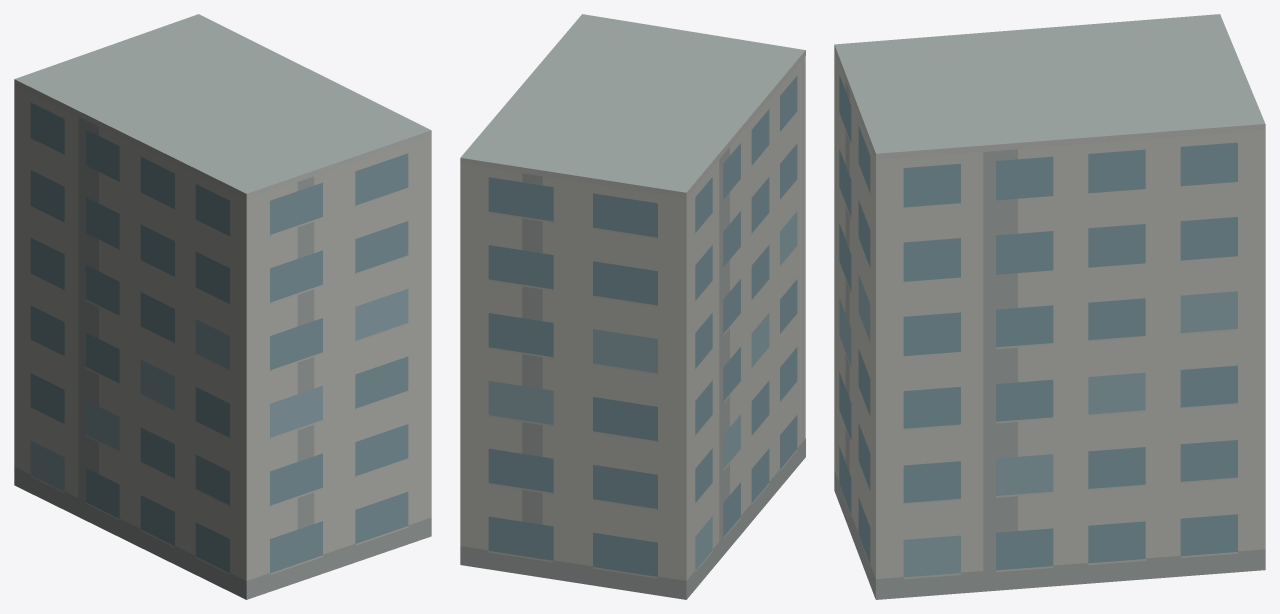
File: survey-upis-32843664.glb
3 views of the same model, side by side, from view 1: azimuth 30°, elevation 25°; view 2: azimuth 150°, elevation 25°; view 3: azimuth 270°, elevation 25° (orthographic). The views are drawn at different scales.
Visible parts, largest first — view 1: survey-upis-32843664.tmp; view 2: survey-upis-32843664.tmp; view 3: survey-upis-32843664.tmp.
Boxes of the visible parts, bbox=[...] form: survey-upis-32843664.tmp: bbox=[14, 14, 431, 599]; survey-upis-32843664.tmp: bbox=[460, 14, 805, 599]; survey-upis-32843664.tmp: bbox=[834, 14, 1265, 599].
Size of the model in its own units: 11.36 by 16.9 by 14.81.
